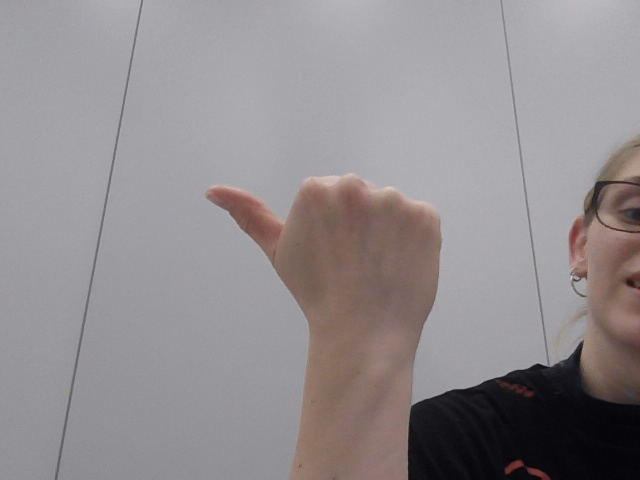right: (191, 65, 495, 369)
